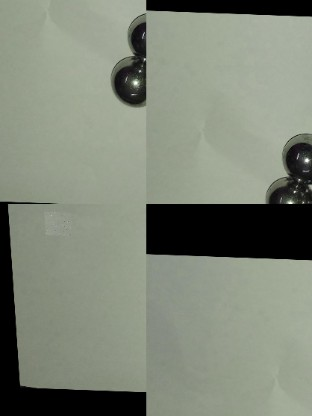ironball: (110, 55, 143, 109), (279, 128, 310, 179), (263, 169, 310, 202), (125, 13, 145, 56)
